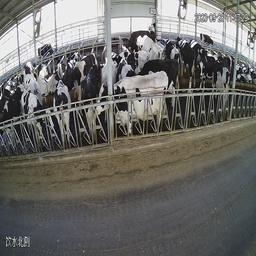cow: (97, 69, 172, 140), (20, 88, 54, 153), (77, 66, 100, 150), (52, 78, 75, 153), (2, 80, 21, 153), (214, 54, 231, 126), (175, 34, 196, 88), (135, 34, 164, 64), (197, 51, 212, 90), (36, 61, 51, 91), (202, 29, 216, 51)
